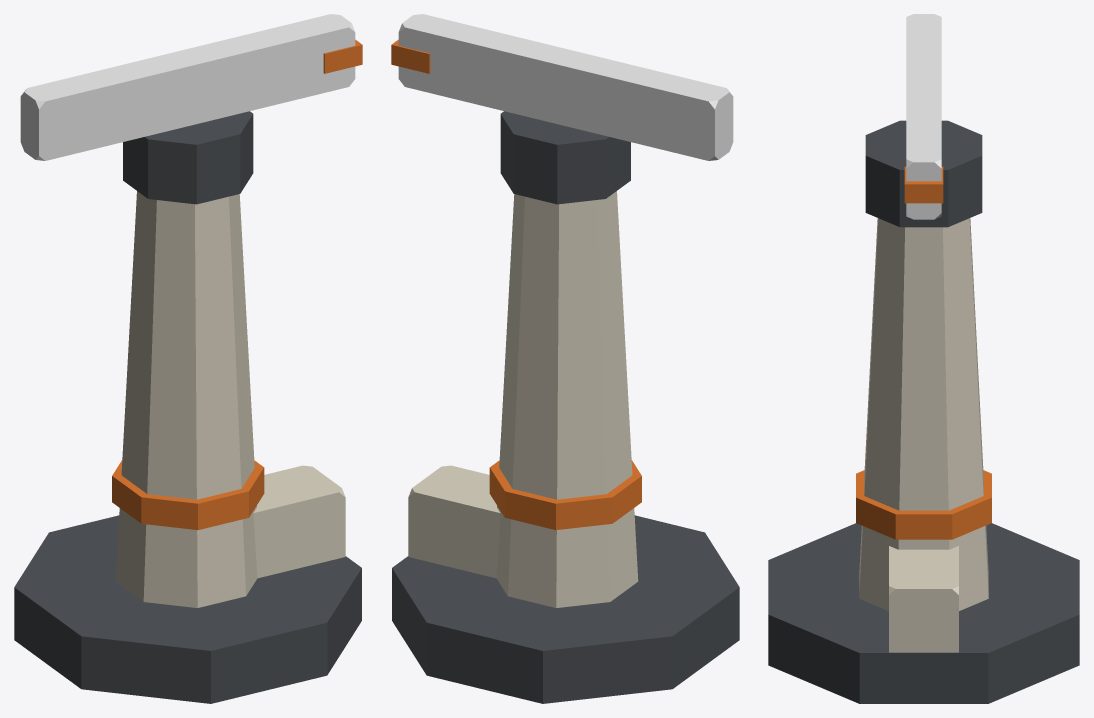
The model's file is hum_str_scanner.glb.
The picture shows the model from 3 angles, left to right: view 1: azimuth 30°, elevation 25°; view 2: azimuth 150°, elevation 25°; view 3: azimuth 270°, elevation 25°; orthographic projection. The views are drawn at different scales.
Visible parts, largest first — view 1: post, scanner_head; view 2: post, scanner_head; view 3: post, scanner_head.
Boxes of the visible parts, x1=… form: post: x1=14, y1=191, x2=361, y2=703; scanner_head: x1=20, y1=14, x2=362, y2=204; post: x1=392, y1=191, x2=739, y2=703; scanner_head: x1=391, y1=14, x2=733, y2=204; post: x1=768, y1=218, x2=1079, y2=703; scanner_head: x1=865, y1=14, x2=982, y2=227.
Size of the model in its own units: 5.1 by 8.65 by 4.43.
2 materials, 2 textured.
